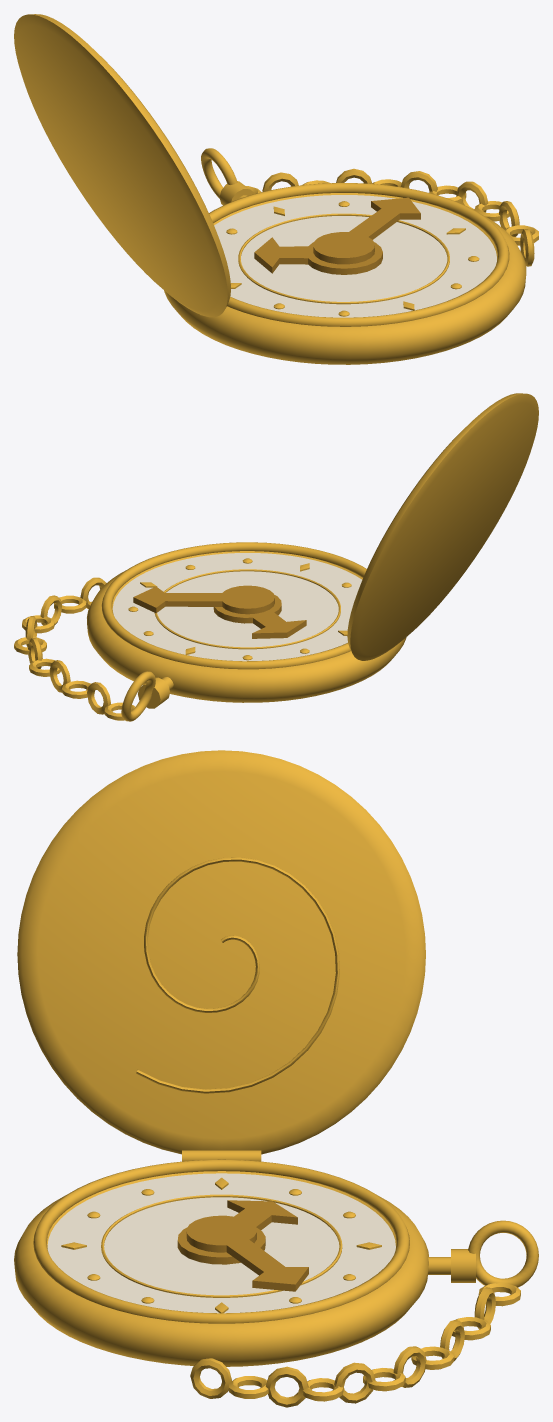
Rendered from pocket_watch.glb.
The picture shows the model from 3 angles, top to bottom: view 1: azimuth 30°, elevation 25°; view 2: azimuth 150°, elevation 25°; view 3: azimuth 270°, elevation 25°; orthographic projection. The views are drawn at different scales.
Visible parts, largest first — view 1: WatchBody, MinuteHand, HourHand; view 2: WatchBody, MinuteHand, HourHand; view 3: WatchBody, MinuteHand, HourHand.
Part boxes in pixels (x1,y1,x2,y2): WatchBody: (14,14,538,364); MinuteHand: (313,197,420,264); HourHand: (254,237,382,274); WatchBody: (14,393,538,721); MinuteHand: (133,585,274,614); HourHand: (213,595,306,638); WatchBody: (14,750,538,1407); MinuteHand: (186,1215,308,1291); HourHand: (177,1200,297,1264).
Bounding box in the file's own units: 4 × 2.68 × 3.26.
